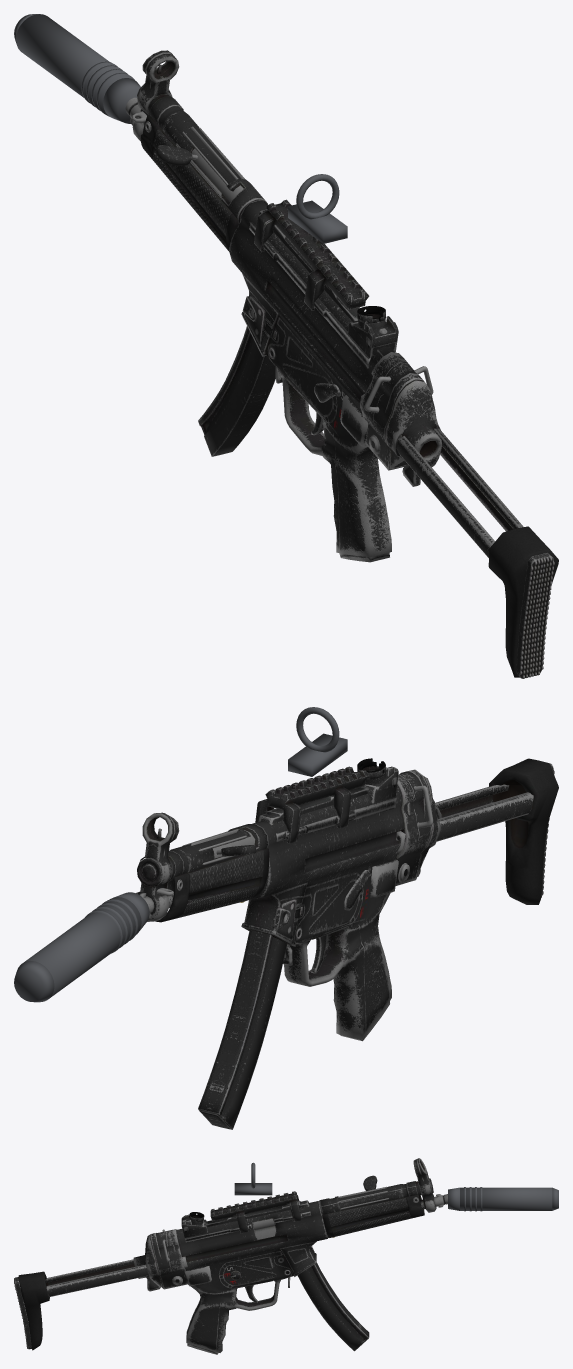
File: weapon_mp5.glb
The picture shows the model from 3 angles, top to bottom: view 1: azimuth 30°, elevation 25°; view 2: azimuth 150°, elevation 25°; view 3: azimuth 270°, elevation 25°; orthographic projection. The views are drawn at different scales.
Visible parts, largest first — view 1: Receiver, Mag, Charge; view 2: Receiver, Mag, Charge; view 3: Receiver, Mag.
Boxes of the visible parts, x1,y1,x2,y2 form: Receiver: (14, 14, 558, 678); Mag: (198, 326, 275, 456); Charge: (155, 144, 243, 202); Receiver: (14, 707, 558, 1041); Mag: (198, 929, 286, 1129); Charge: (212, 830, 256, 858); Receiver: (14, 1158, 558, 1354); Mag: (297, 1262, 369, 1351).
Size of the model in its own units: 0.0749 by 0.3166 by 0.81.
Materials: 3 (1 with a texture image).
